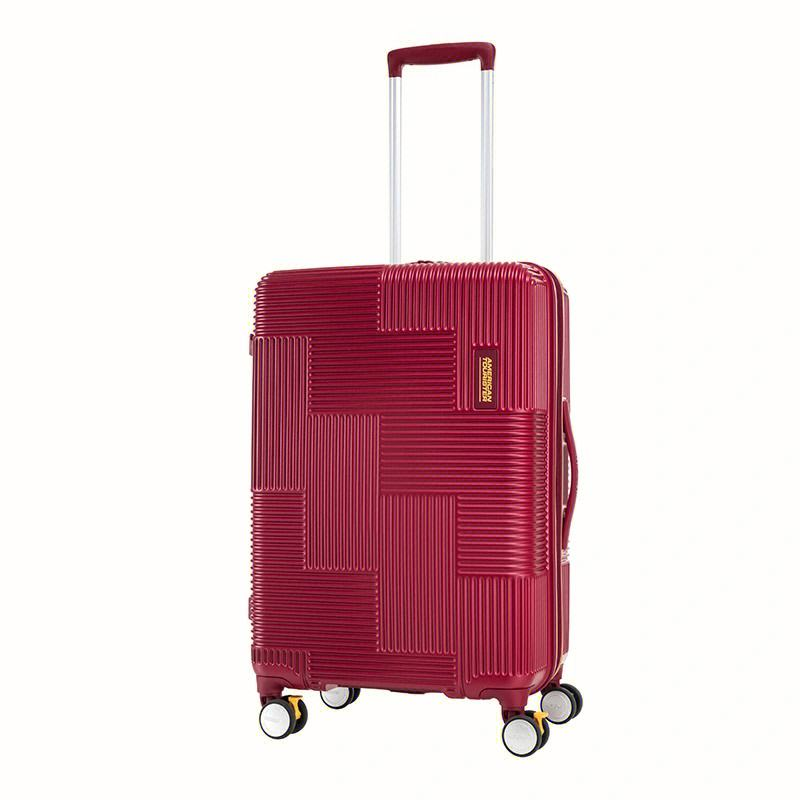box: (252, 262, 570, 700)
handle: (561, 399, 578, 551)
wheel: (502, 710, 550, 758), (259, 695, 309, 740), (540, 683, 584, 724), (320, 686, 361, 709)
